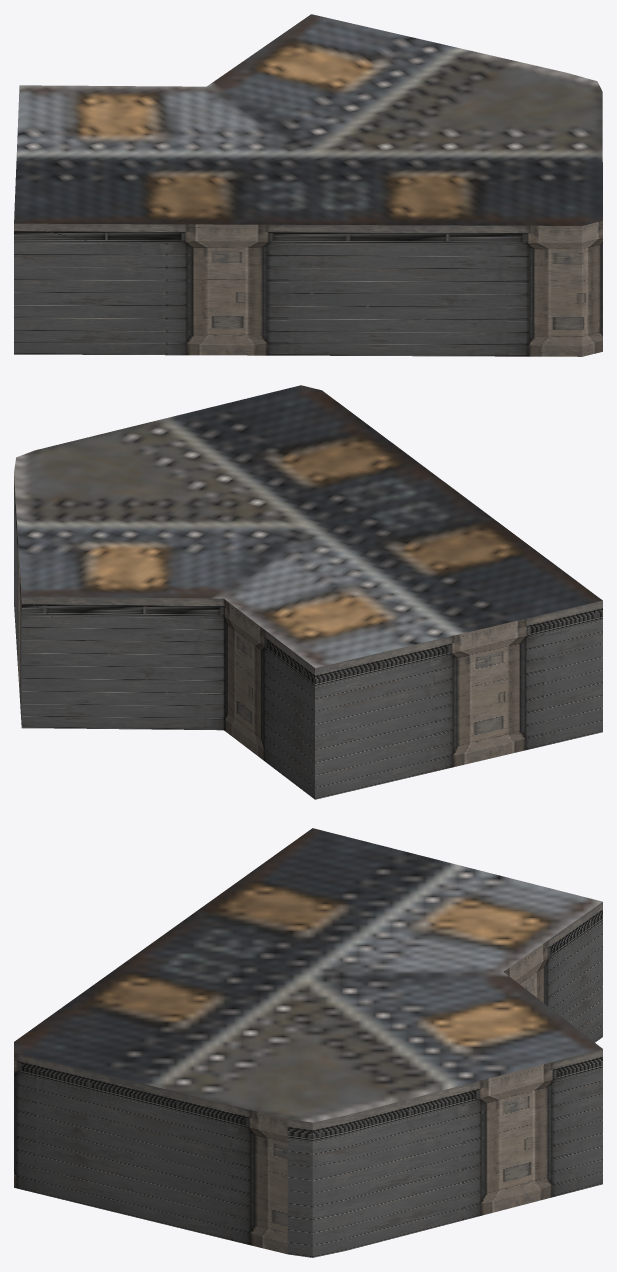
File: hangar_medium_a_38.glb
3 views of the same model, one above another, from view 1: azimuth 30°, elevation 25°; view 2: azimuth 150°, elevation 25°; view 3: azimuth 270°, elevation 25° (orthographic). The views are drawn at different scales.
Visible parts, largest first — view 1: buildings/saxarba/hangar_medium/hangar_medium_a_38; view 2: buildings/saxarba/hangar_medium/hangar_medium_a_38; view 3: buildings/saxarba/hangar_medium/hangar_medium_a_38.
Boxes of the visible parts, bbox=[...] form: buildings/saxarba/hangar_medium/hangar_medium_a_38: bbox=[14, 14, 602, 356]; buildings/saxarba/hangar_medium/hangar_medium_a_38: bbox=[14, 385, 602, 799]; buildings/saxarba/hangar_medium/hangar_medium_a_38: bbox=[14, 828, 602, 1257].
Size of the model in its own units: 84 by 18 by 71.
